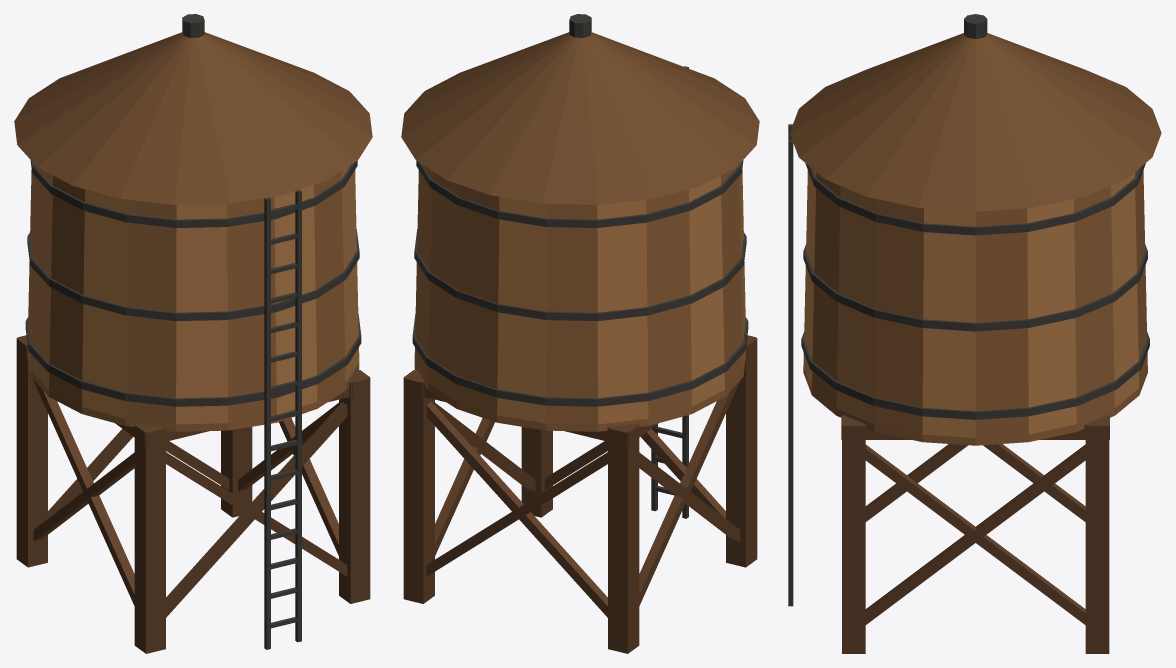
The model's file is water-tower-timber.glb.
3 views of the same model, side by side, from view 1: azimuth 30°, elevation 25°; view 2: azimuth 150°, elevation 25°; view 3: azimuth 270°, elevation 25° (orthographic). The views are drawn at different scales.
Parts seen in each view (by area): view 1: water-tower-timber; view 2: water-tower-timber; view 3: water-tower-timber.
Boxes of the visible parts, x1,y1,x2,y2 form: water-tower-timber: [14, 14, 372, 653]; water-tower-timber: [401, 14, 759, 653]; water-tower-timber: [788, 14, 1161, 653].
Size of the model in its own units: 4.43 by 7.6 by 4.44.
